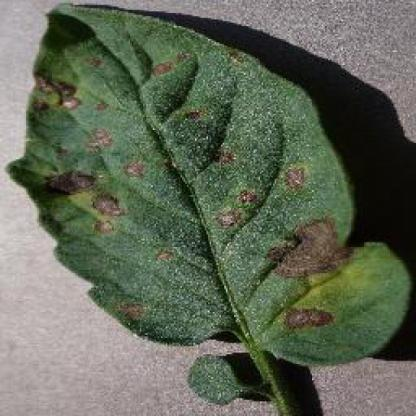Tomato_Blight: (7, 5, 410, 360)
